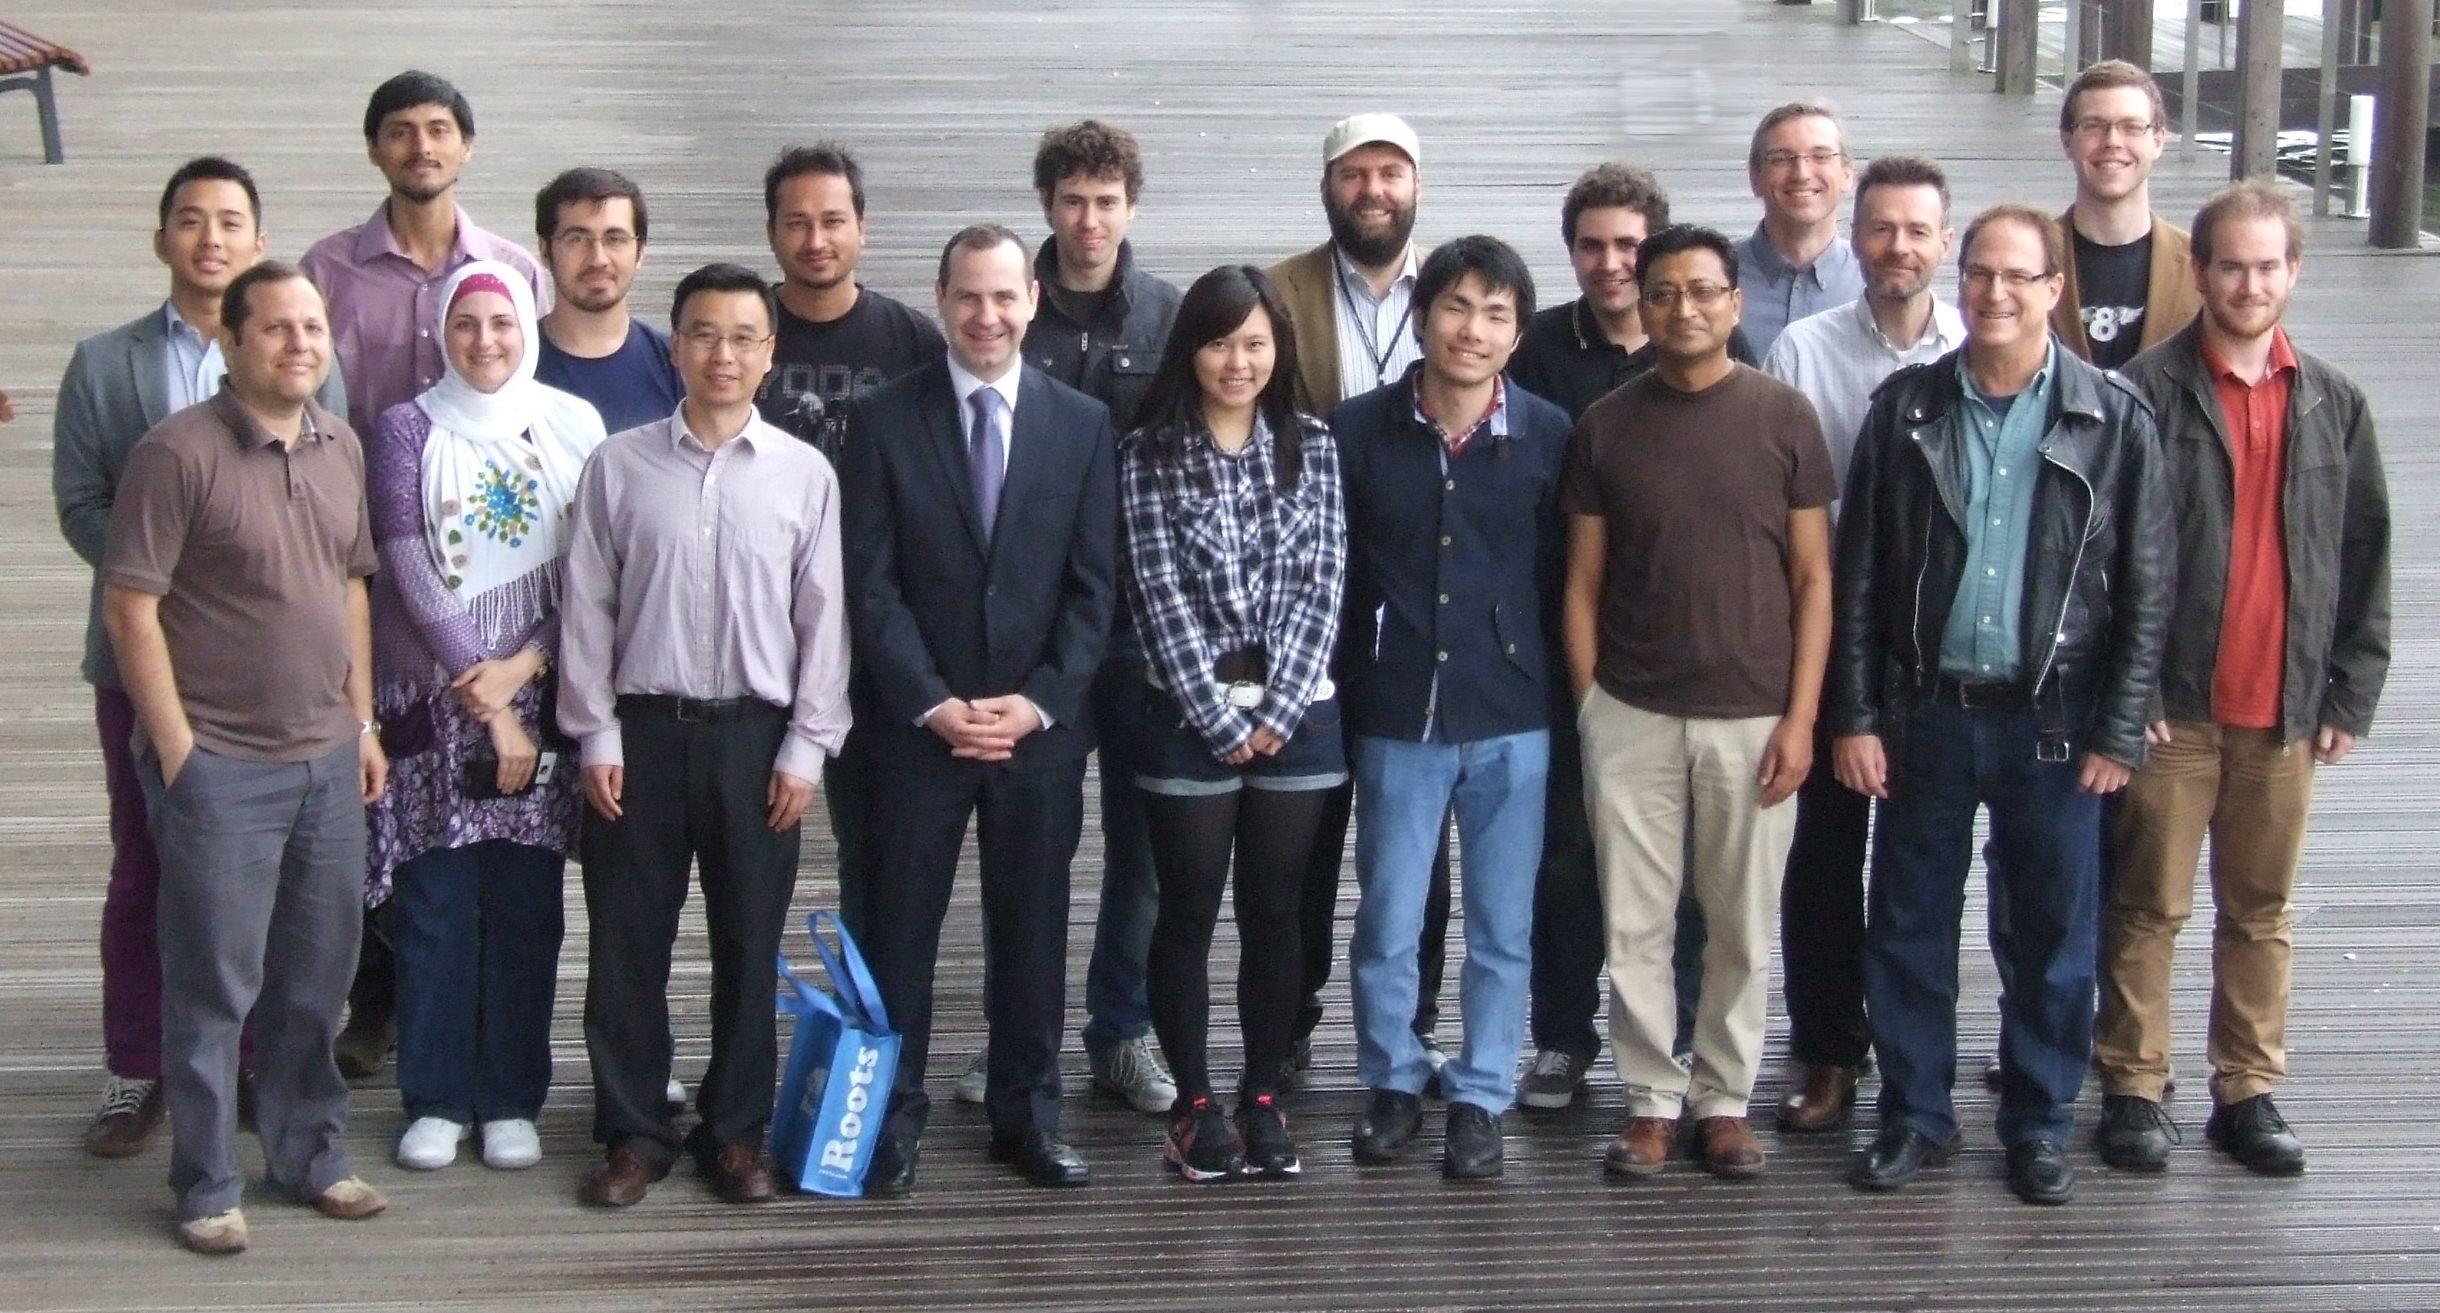without_mask: (2175, 167, 2312, 348), (342, 48, 480, 215), (1404, 236, 1549, 386), (746, 135, 886, 289), (1943, 204, 2072, 365), (919, 218, 1040, 388), (1306, 102, 1426, 271), (1617, 220, 1749, 372), (1036, 102, 1159, 263), (419, 232, 544, 388), (529, 155, 651, 313), (676, 265, 798, 420), (2052, 52, 2180, 201), (1839, 153, 1959, 308), (222, 279, 342, 425), (1179, 258, 1287, 420), (132, 165, 259, 303), (1732, 95, 1847, 236), (1549, 162, 1636, 324)
